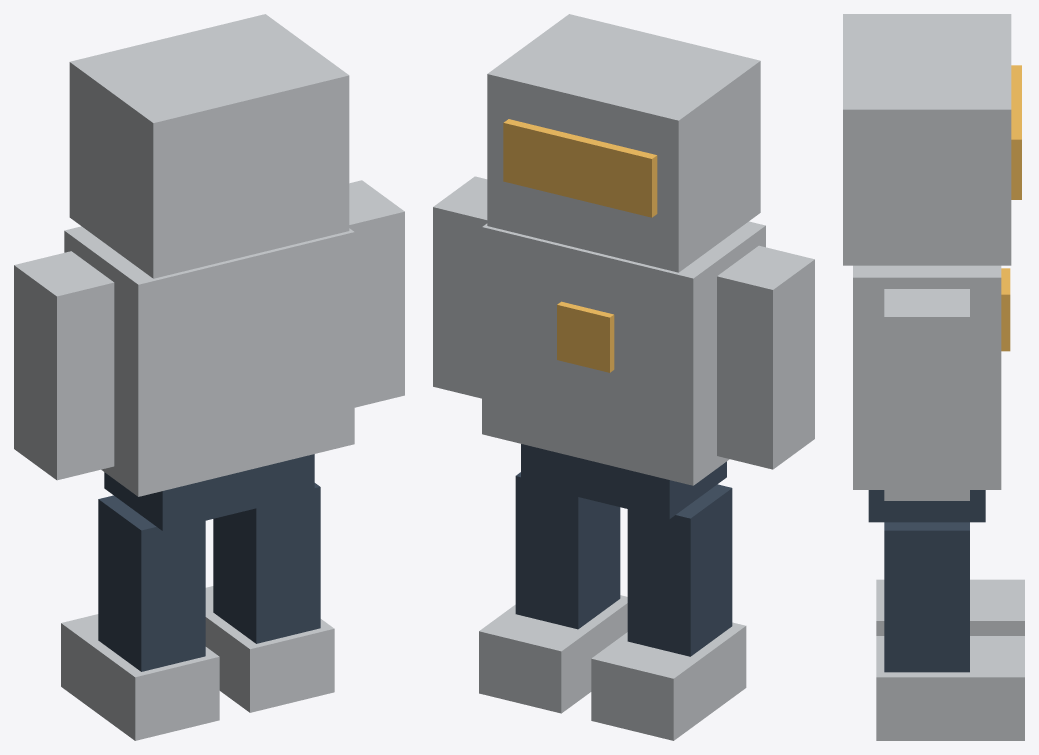
File: robot_variante_gris.gltf
3 views of the same model, side by side, from view 1: azimuth 30°, elevation 25°; view 2: azimuth 150°, elevation 25°; view 3: azimuth 270°, elevation 25° (orthographic). The views are drawn at different scales.
Parts seen in each view (by area): view 1: Cabeza, Torso, BrazoL, PiernaL, PiernaR, PieL, BrazoR, PieR, Cadera; view 2: Torso, Cabeza, BrazoL, PiernaL, PiernaR, PieL, PieR, BrazoR, Visor, Cadera, Insignia; view 3: Cabeza, BrazoR, Torso, PiernaR, PieR, PieL, Cadera, Visor, Insignia.
Part boxes in pixels (x1,y1,x2,y2): Cabeza: (69, 14, 349, 278); Torso: (64, 226, 354, 496); BrazoL: (14, 251, 114, 480); PiernaL: (98, 495, 205, 671); PiernaR: (213, 483, 320, 643); PieL: (61, 614, 219, 740); BrazoR: (349, 180, 404, 407); PieR: (205, 586, 334, 712); Cadera: (104, 454, 314, 530); Torso: (482, 221, 765, 485); Cabeza: (487, 14, 760, 272); BrazoL: (717, 245, 814, 469); PiernaL: (627, 484, 732, 656); PiernaR: (515, 472, 620, 629); PieL: (591, 622, 746, 740); PieR: (479, 595, 627, 713); BrazoR: (433, 176, 487, 398); Visor: (503, 119, 657, 217); Cadera: (521, 444, 726, 519); Insignia: (557, 301, 614, 372); Cabeza: (843, 14, 1011, 265); BrazoR: (884, 289, 969, 500); Torso: (853, 265, 1001, 489); PiernaR: (884, 522, 969, 672); PieR: (876, 636, 1024, 740); PieL: (876, 579, 1024, 635); Cadera: (868, 490, 985, 522); Visor: (1011, 65, 1021, 199); Insignia: (1001, 268, 1010, 351).
Size of the model in its own units: 1.03 by 1.78 by 0.465.
